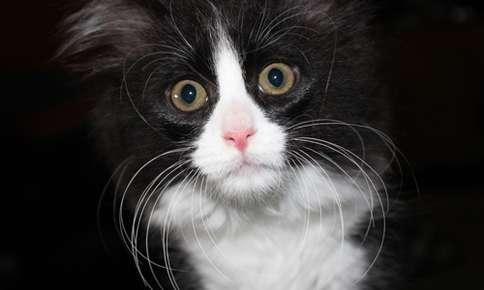Cat: (61, 4, 409, 282)
